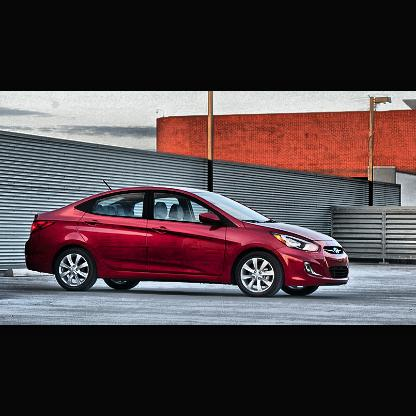Hyundai Accent Sedan 2012: (26, 179, 351, 297)
